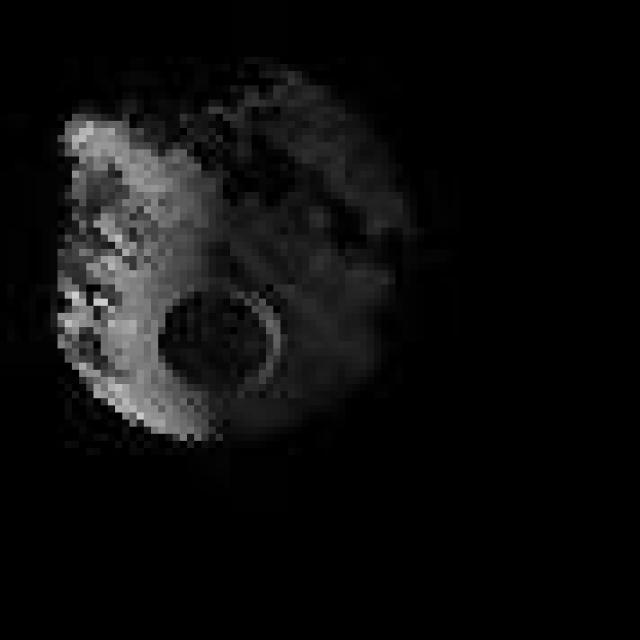Death Star: (36, 50, 424, 455)
